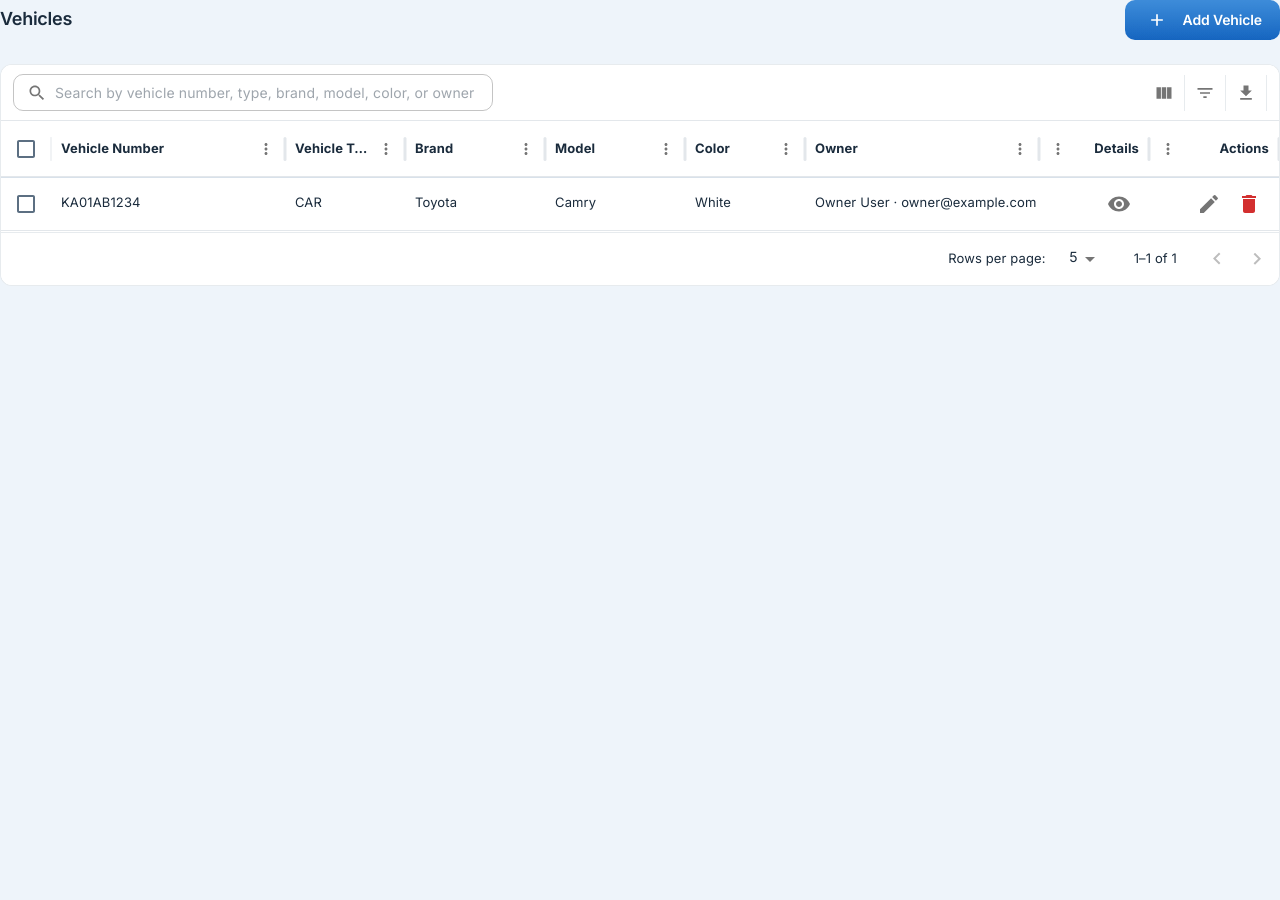
it: VehiclesPage › confirms and deletes a vehicle
Check: the text "KA01AB1234" is shown, box [61,195,141,211]
Click the button named "Delete": {"x": 1249, "y": 204} [1229,184,1269,224]
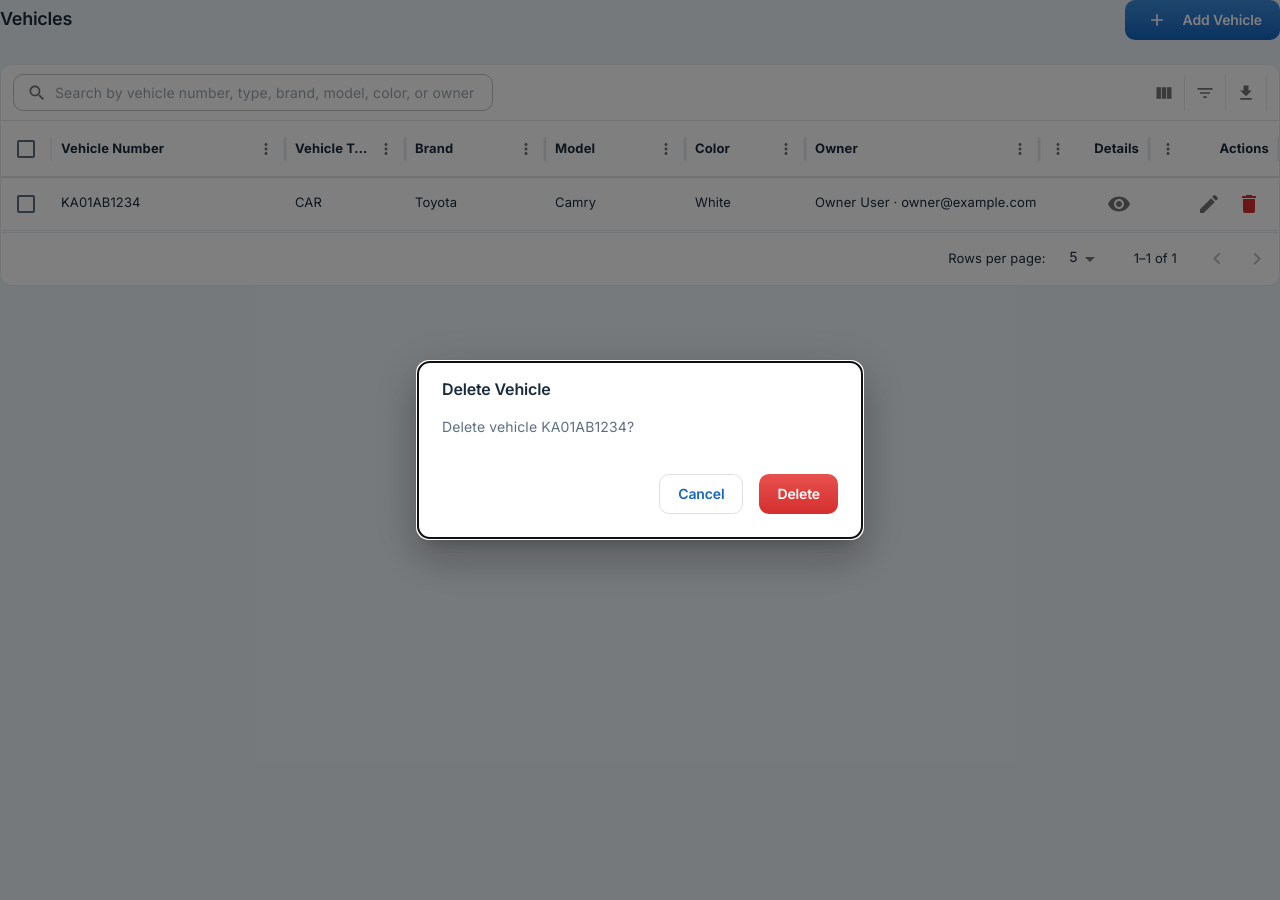
Check: the text "Delete vehicle KA01AB1234?" is shown, box [442,419,634,436]
Click the button "Delete": {"x": 799, "y": 494} [759,474,838,514]
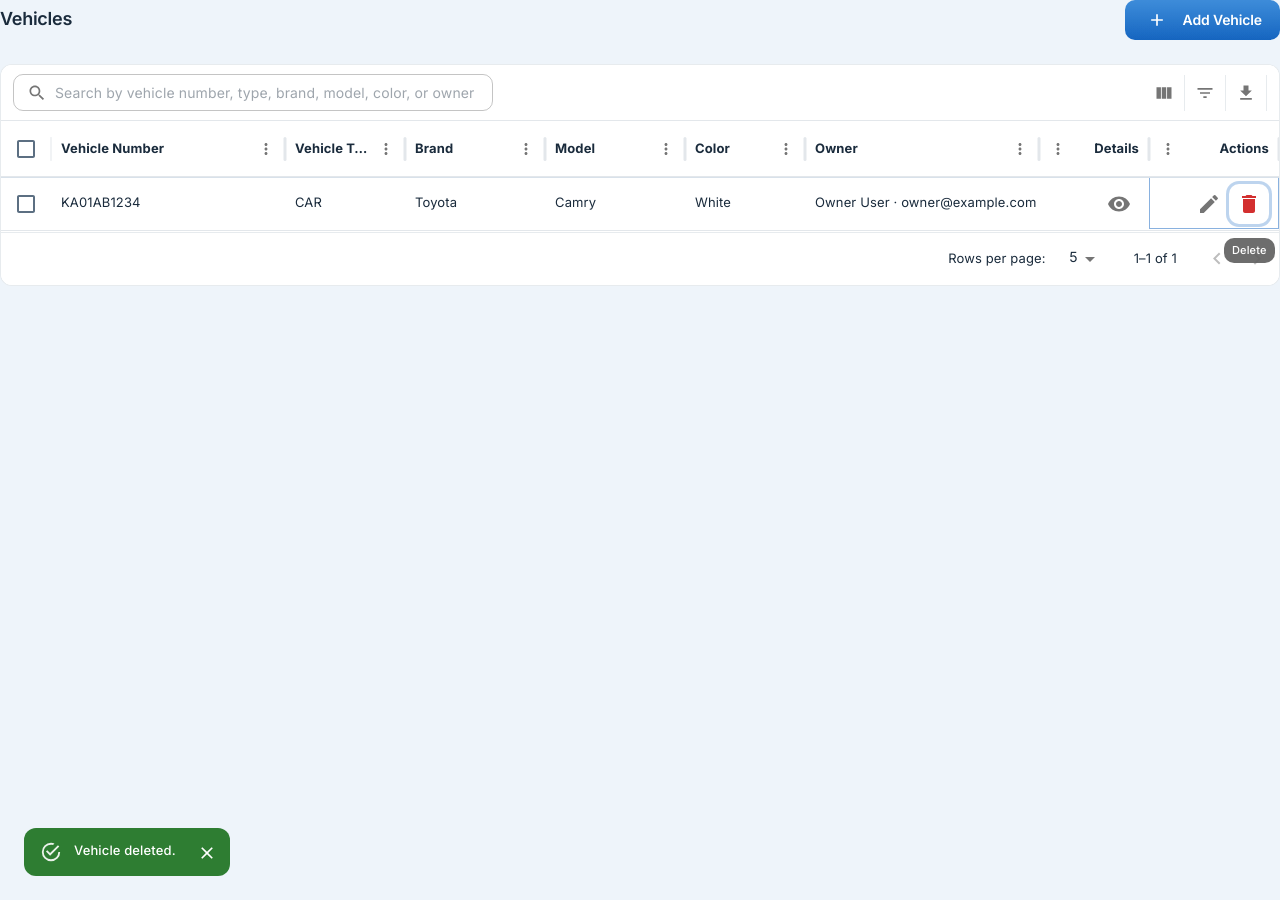
Check: the text "Vehicle deleted." is shown, box [74,843,176,859]
